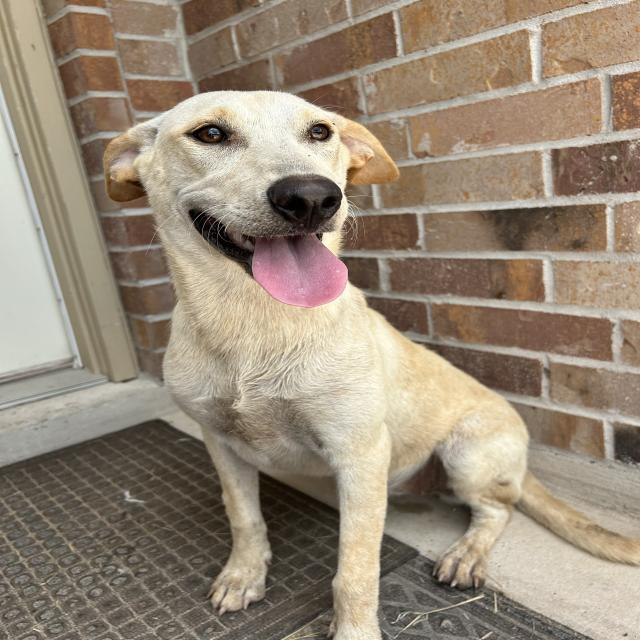labrador_retriever_dog: (91, 69, 419, 321)
